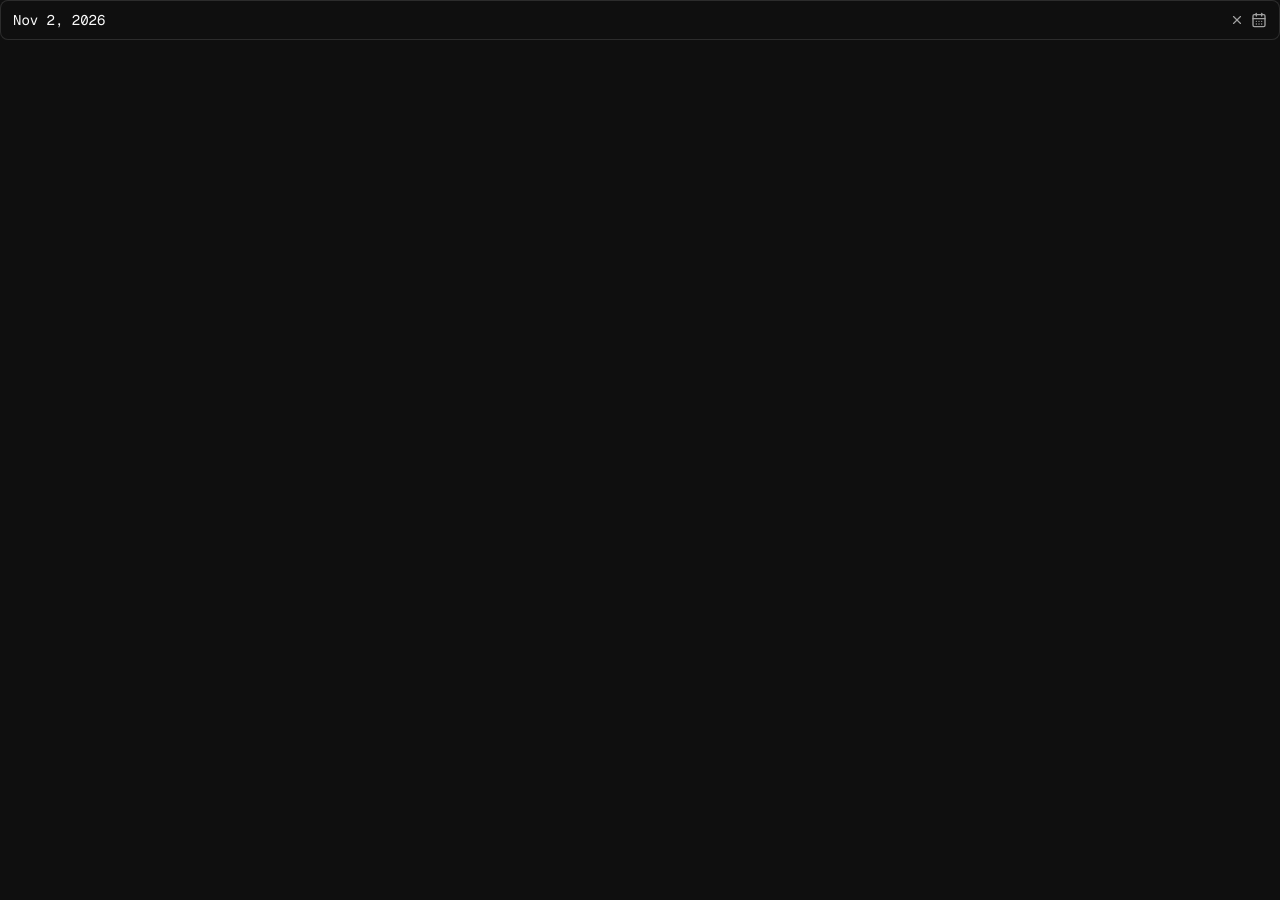
DateField popup › commits a day click and closes (date type)
The width and height of the screenshot is (1280, 900).
Click the button "Nov 2, 2026" at (59, 20), box x1=13 y1=10 x2=1223 y2=30
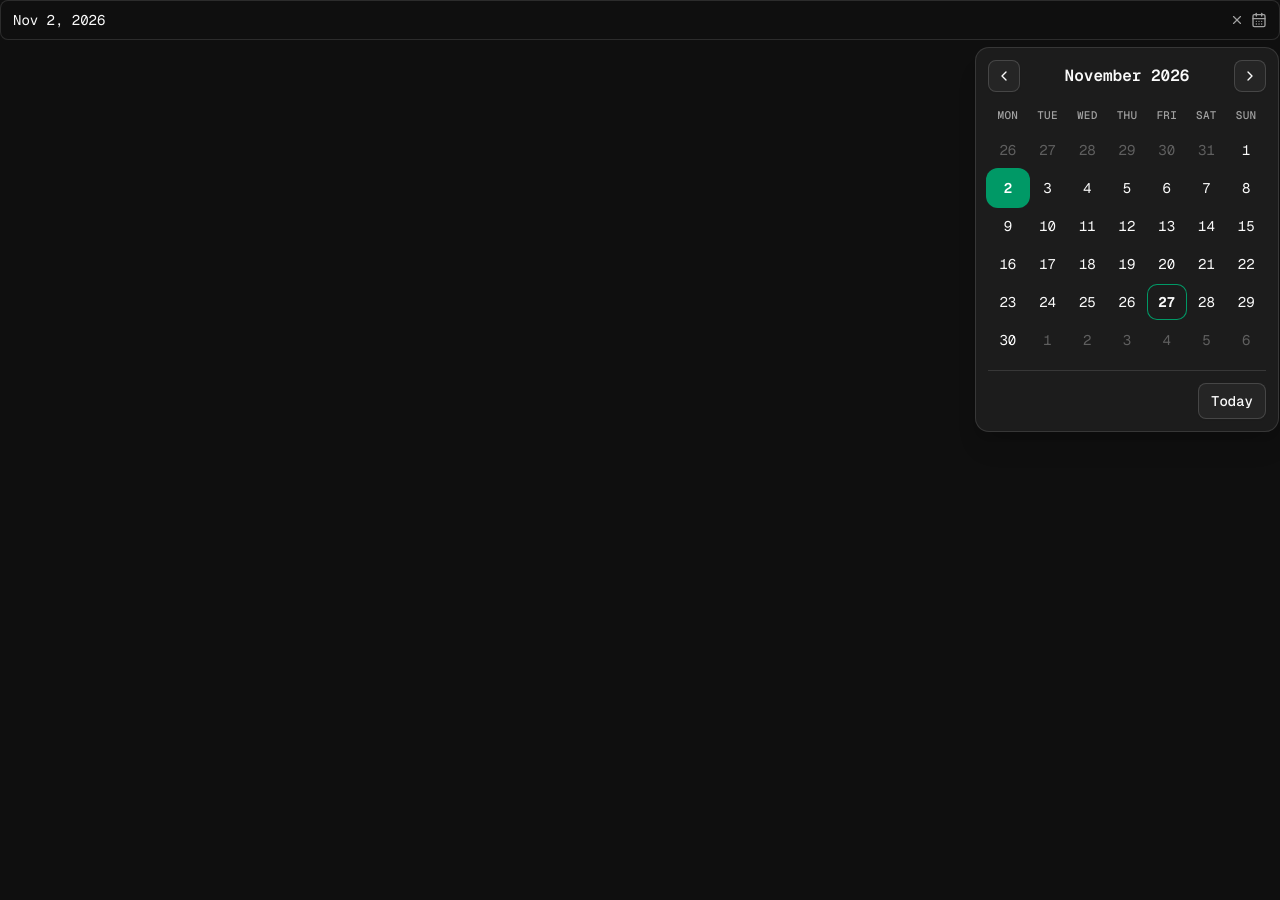
Click the button named "Sunday, November 15, 2026" at (1246, 226), box x1=1226 y1=208 x2=1266 y2=244
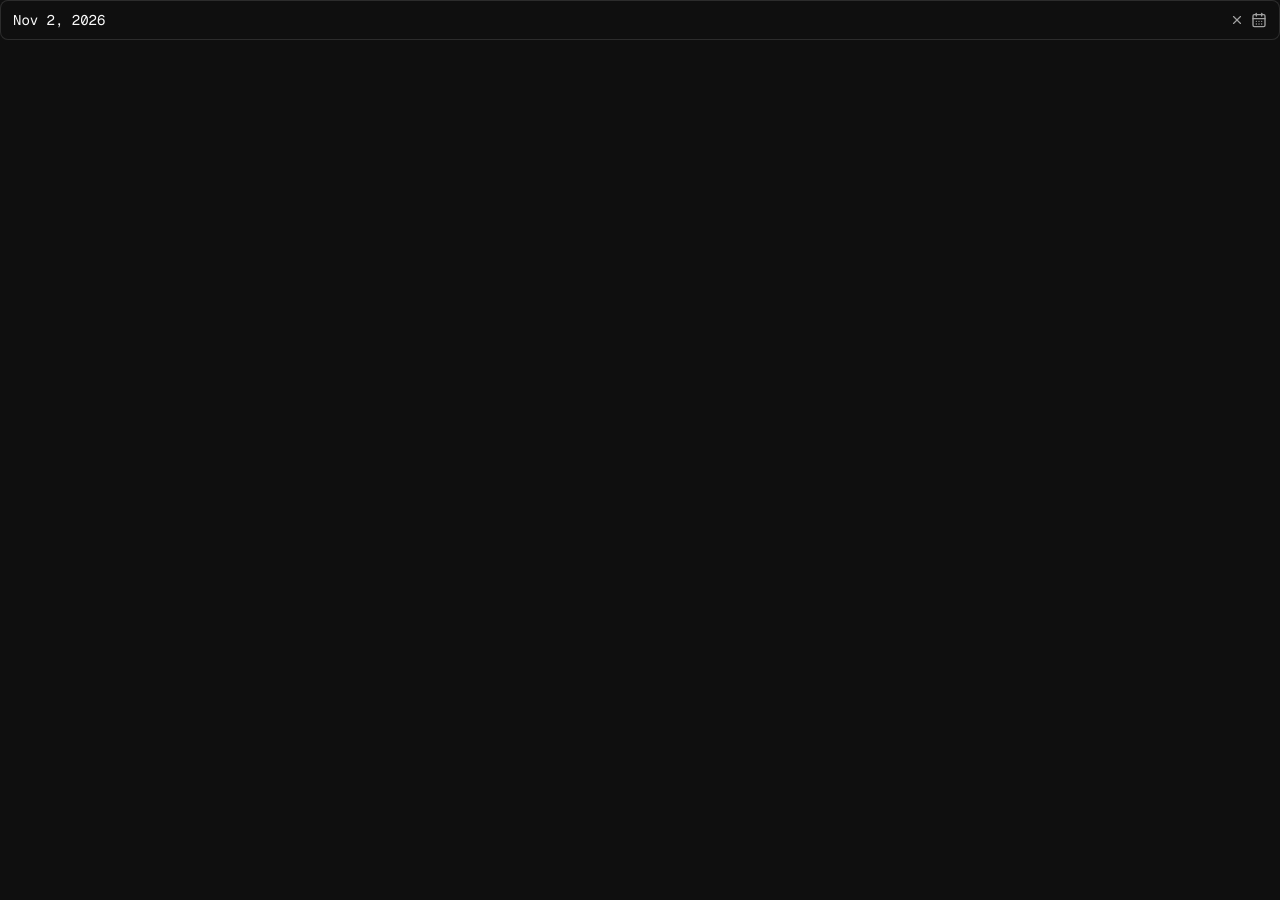
Expected: the text "November 2026" is gone
